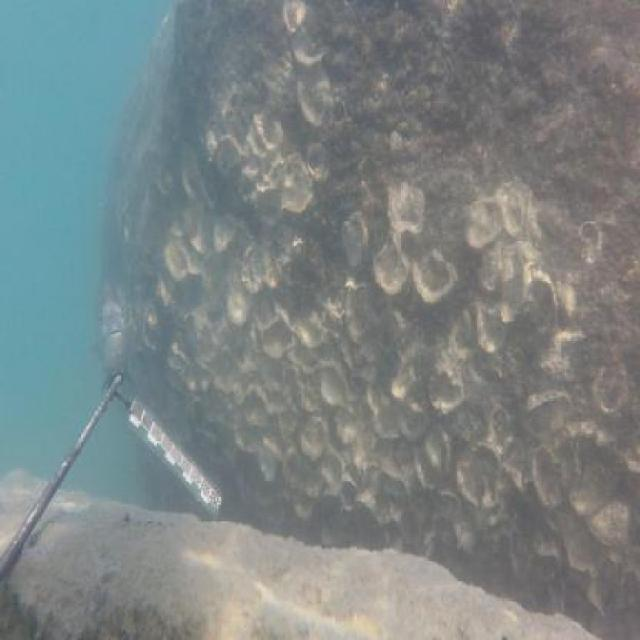acanthopagrus_palmaris: (93, 276, 129, 375)
